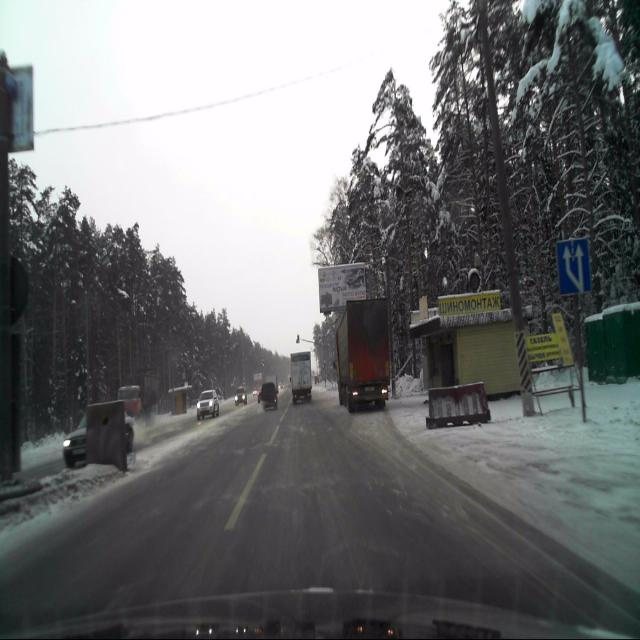object: (573, 299, 586, 425)
road sign: (558, 238, 588, 295)
